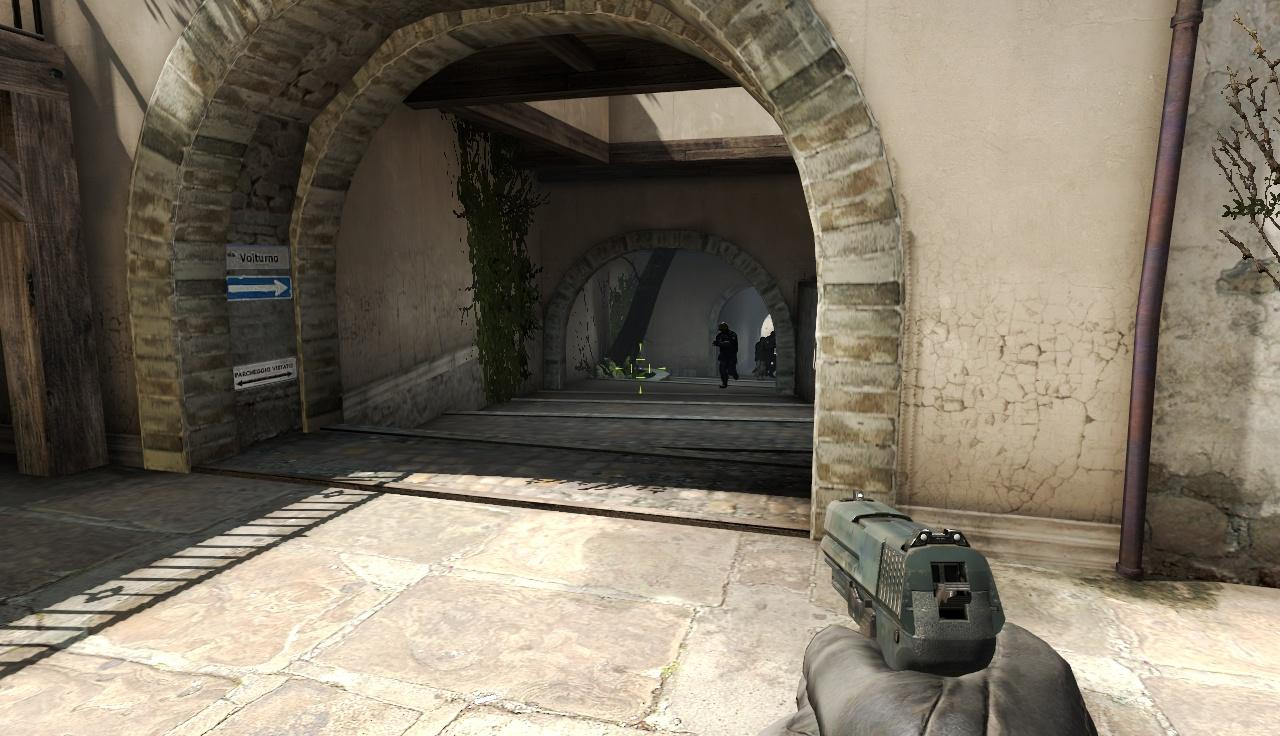ct: (713, 322, 740, 388), (761, 335, 775, 375)
cthead: (718, 322, 731, 334)
pistol: (804, 494, 1067, 736)
